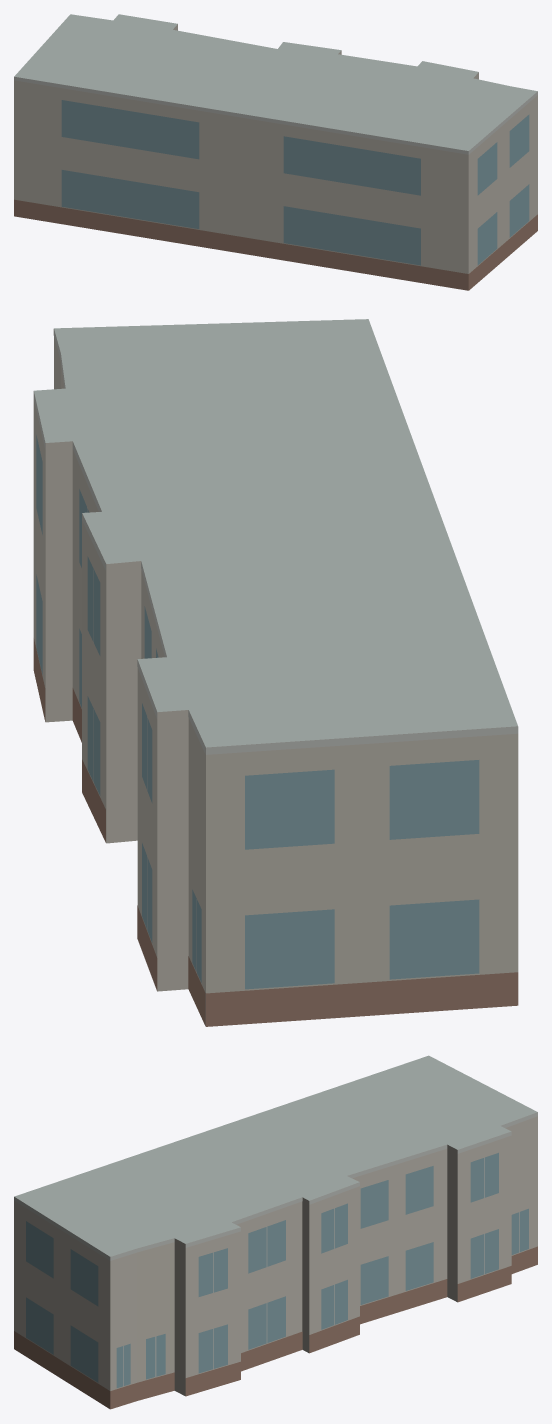
The model's file is survey-upis-32951482.glb.
The picture shows the model from 3 angles, top to bottom: view 1: azimuth 30°, elevation 25°; view 2: azimuth 150°, elevation 25°; view 3: azimuth 270°, elevation 25°; orthographic projection. The views are drawn at different scales.
Visible parts, largest first — view 1: survey-upis-32951482.tmp; view 2: survey-upis-32951482.tmp; view 3: survey-upis-32951482.tmp.
Part boxes in pixels (x1,y1,x2,y2): survey-upis-32951482.tmp: (14,14,537,290); survey-upis-32951482.tmp: (33,319,518,1026); survey-upis-32951482.tmp: (14,1055,537,1409).
Size of the model in its own units: 26.06 by 9.2 by 28.65.
